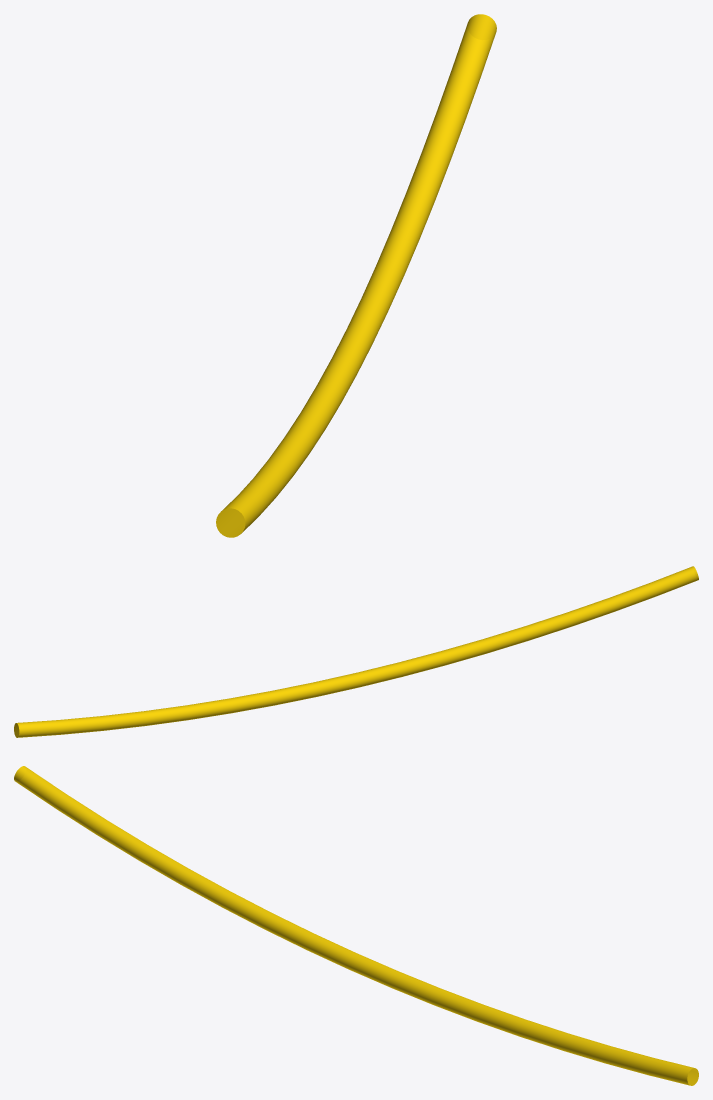
The model's file is Event_420107950_track_8.fbx.
The picture shows the model from 3 angles, top to bottom: view 1: azimuth 30°, elevation 25°; view 2: azimuth 150°, elevation 25°; view 3: azimuth 270°, elevation 25°; orthographic projection. The views are drawn at different scales.
Visible parts, largest first — view 1: Model; view 2: Model; view 3: Model.
Part boxes in pixels (<box>): Model: <box>216,14,496,537</box>; Model: <box>14,566,698,737</box>; Model: <box>14,766,698,1085</box>.
Bounding box in the file's own units: 1.27 × 0.2213 × 1.5.
